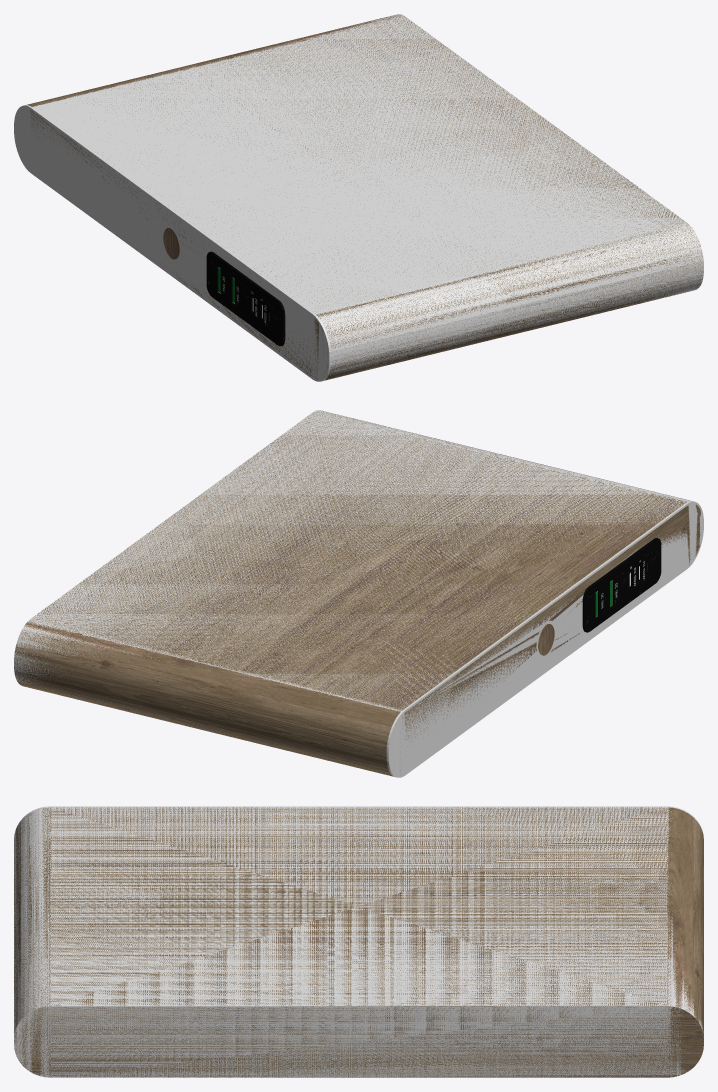
Rendered from smartRackOne.glb.
3 views of the same model, one above another, from view 1: azimuth 30°, elevation 25°; view 2: azimuth 150°, elevation 25°; view 3: azimuth 270°, elevation 25° (orthographic). The views are drawn at different scales.
Visible parts, largest first — view 1: smartRackOneWireframe, smartRackOneComplete, smartRackOneUsb; view 2: smartRackOneComplete, smartRackOneWireframe, smartRackOneUsb; view 3: smartRackOneWireframe, smartRackOneComplete.
Boxes of the visible parts, left/top/right/bottom form: smartRackOneWireframe: left=14, top=14, right=703, bottom=381; smartRackOneComplete: left=25, top=14, right=703, bottom=380; smartRackOneUsb: left=206, top=251, right=285, bottom=346; smartRackOneComplete: left=14, top=410, right=700, bottom=776; smartRackOneWireframe: left=14, top=410, right=703, bottom=777; smartRackOneUsb: left=582, top=538, right=661, bottom=632; smartRackOneWireframe: left=14, top=806, right=703, bottom=1077; smartRackOneComplete: left=14, top=807, right=703, bottom=1077.
Bounding box in the file's own units: 0.2413 × 0.04 × 0.35.
3 materials, 3 textured.
